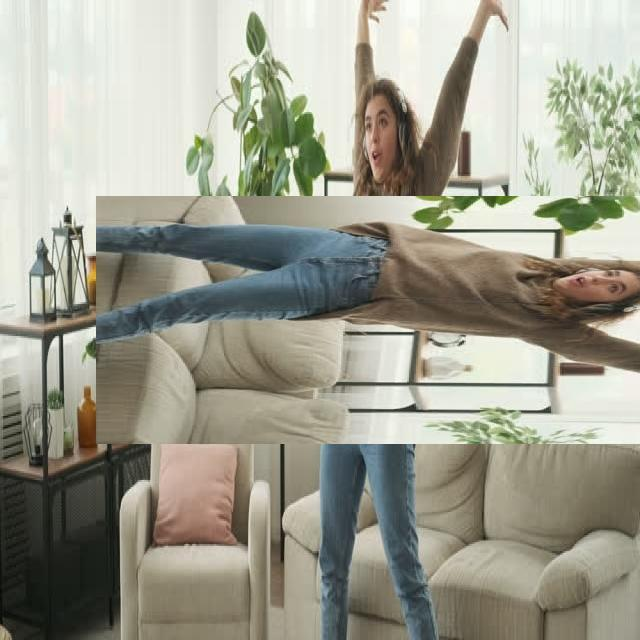NotFall: (44, 113, 620, 447)
